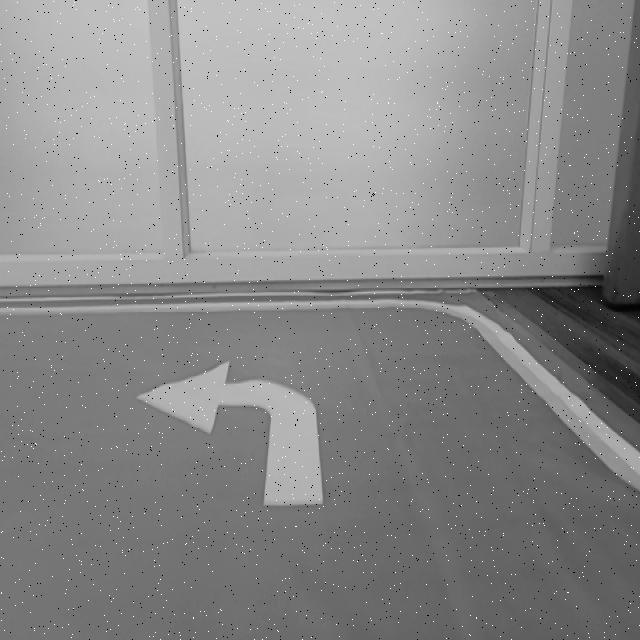right_lane: (461, 316, 640, 492)
